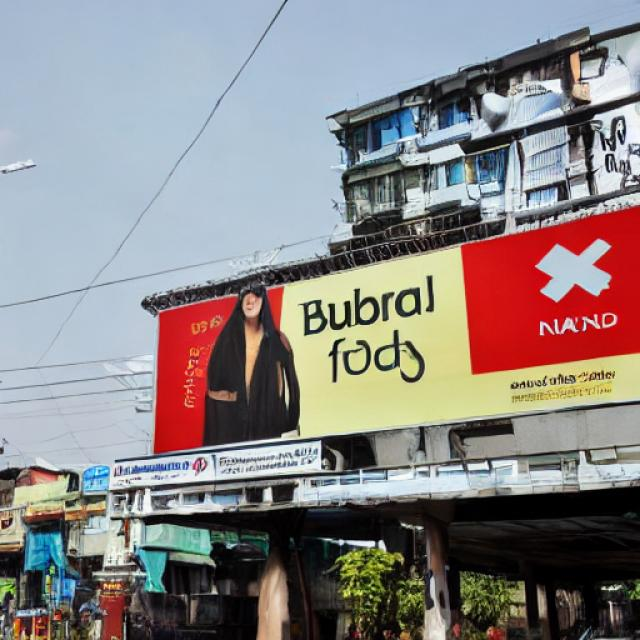Billboard: (154, 202, 636, 459)
